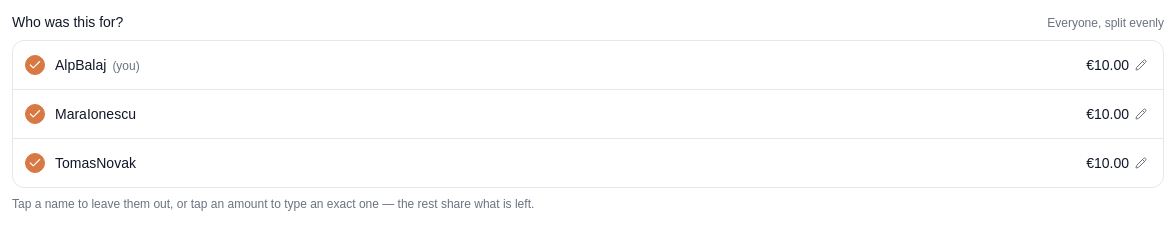
Test: PotAttributionField › un-pins back to an even slice
Click the button named "Type an exact amount for MaraIonescu" at (1117, 114), box x1=1078 y1=98 x2=1155 y2=130
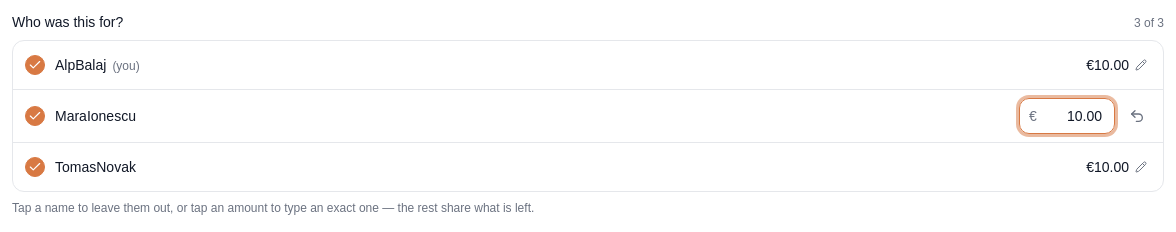
Click the button named "Split MaraIonescu's share evenly again" at (1137, 116), box x1=1119 y1=98 x2=1155 y2=134
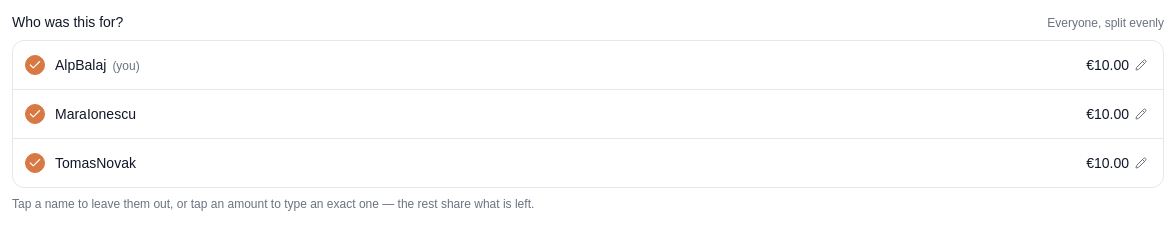
Expected: the text "Everyone, split evenly" is shown, x1=1047 y1=15 x2=1164 y2=31
